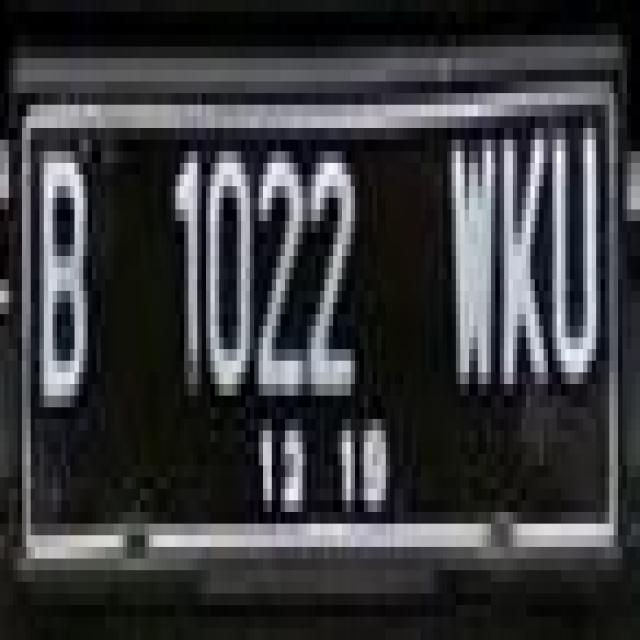0: (206, 140, 254, 408)
1: (164, 134, 204, 414)
2: (254, 134, 307, 402), (306, 134, 359, 402)
B: (42, 145, 94, 425)
K: (498, 128, 546, 408)
U: (550, 122, 603, 402)
W: (447, 134, 495, 402)
